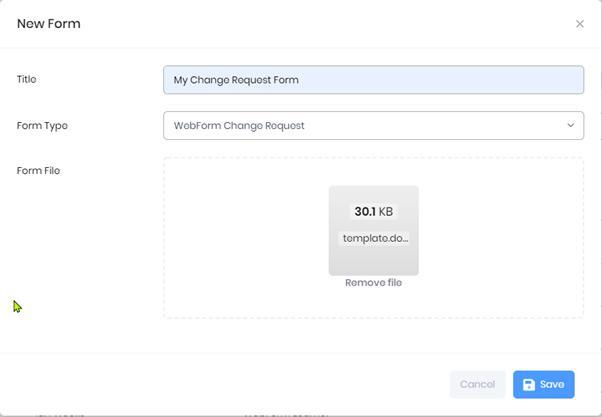button: (514, 371, 576, 399), (451, 371, 507, 400)
dropdown: (165, 112, 585, 140)
input: (164, 66, 585, 95)
label: (14, 119, 72, 136), (16, 166, 64, 180), (15, 71, 40, 88)
